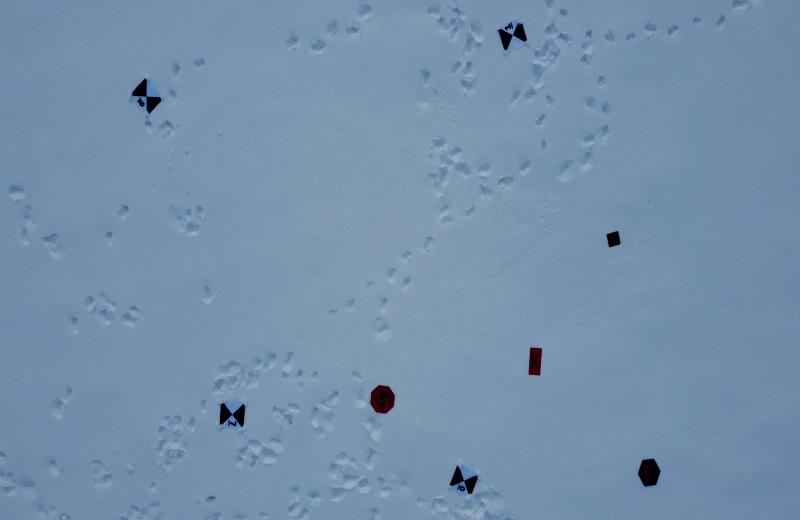Octagon: (369, 384, 396, 416)
Rectangle: (526, 344, 545, 381)
Square: (603, 227, 622, 249)
